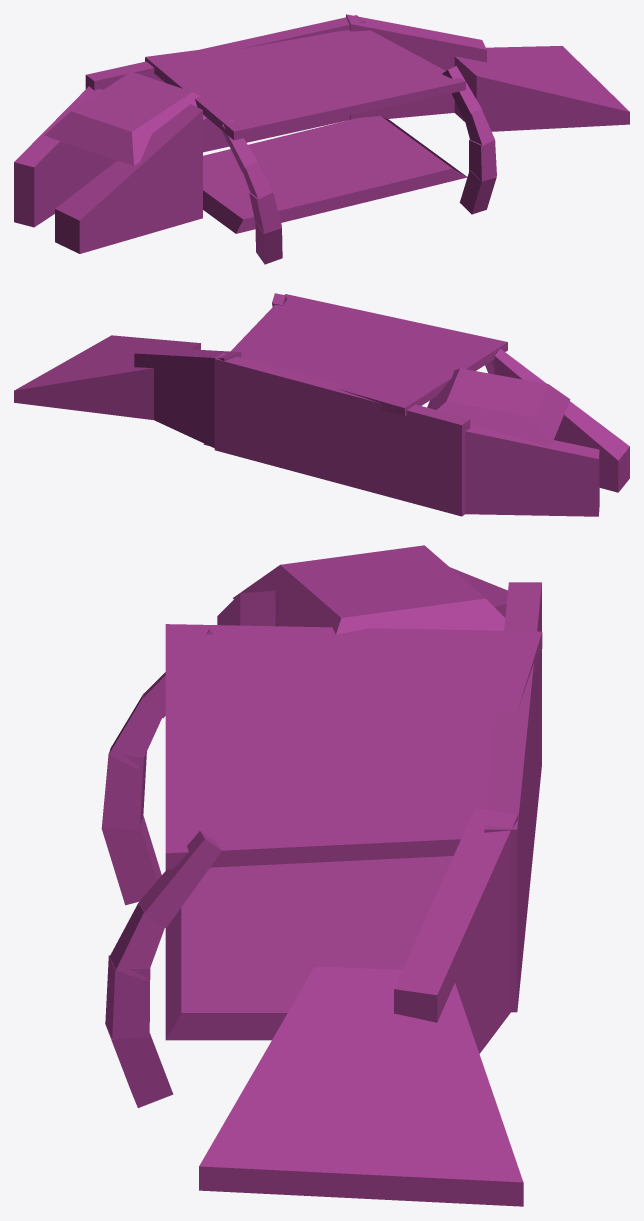
The model's file is SM_Bld_Tent_Fish_01_Collision.fbx.
3 renders of one model, top to bottom at view 1: azimuth 30°, elevation 25°; view 2: azimuth 150°, elevation 25°; view 3: azimuth 270°, elevation 25°, orthographic. The views are drawn at different scales.
Visible parts, largest first — view 1: SM_Bld_Tent_Fish_01_Collision; view 2: SM_Bld_Tent_Fish_01_Collision; view 3: SM_Bld_Tent_Fish_01_Collision.
Part boxes in pixels (left/top/right/bottom): SM_Bld_Tent_Fish_01_Collision: left=14, top=14, right=629, bottom=264; SM_Bld_Tent_Fish_01_Collision: left=14, top=293, right=629, bottom=516; SM_Bld_Tent_Fish_01_Collision: left=101, top=545, right=542, bottom=1206.
Bounding box in the file's own units: 1636 × 386 × 562.
